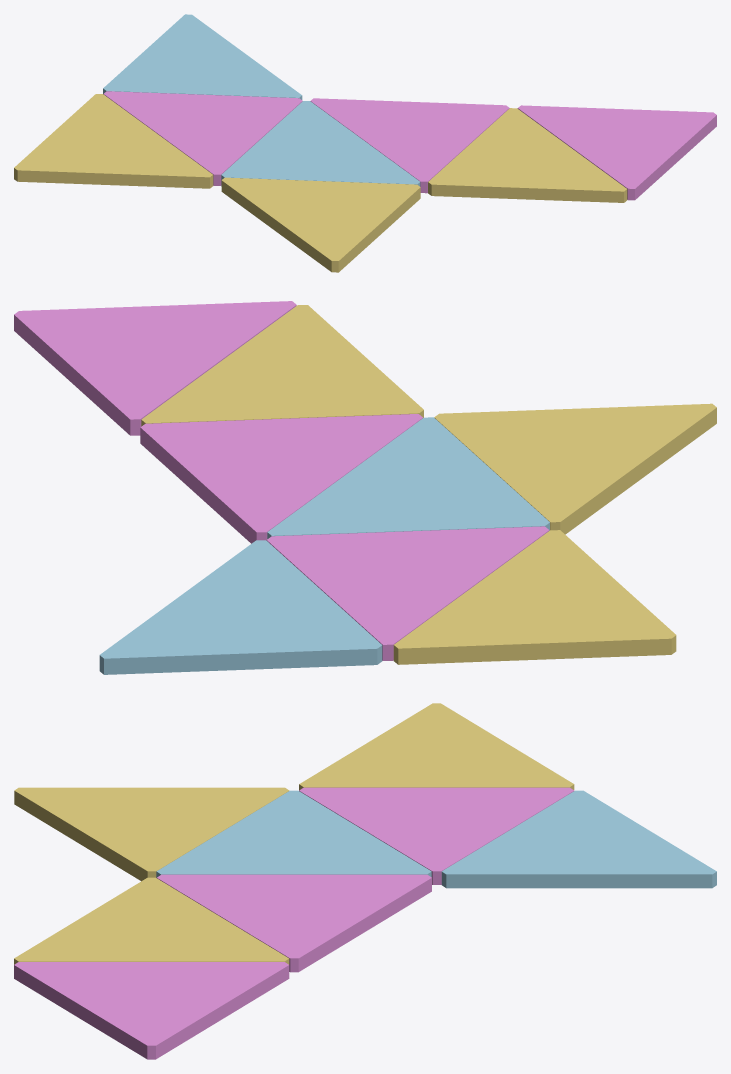
The model's file is wall triangle lights.glb.
The picture shows the model from 3 angles, top to bottom: view 1: azimuth 30°, elevation 25°; view 2: azimuth 150°, elevation 25°; view 3: azimuth 270°, elevation 25°; orthographic projection. The views are drawn at different scales.
Visible parts, largest first — view 1: Plane; view 2: Plane; view 3: Plane.
Part boxes in pixels (<box>): Plane: <box>14,14,716,272</box>; Plane: <box>14,301,716,674</box>; Plane: <box>14,703,716,1059</box>.
Bounding box in the file's own units: 5.88 × 0.1106 × 5.11.
